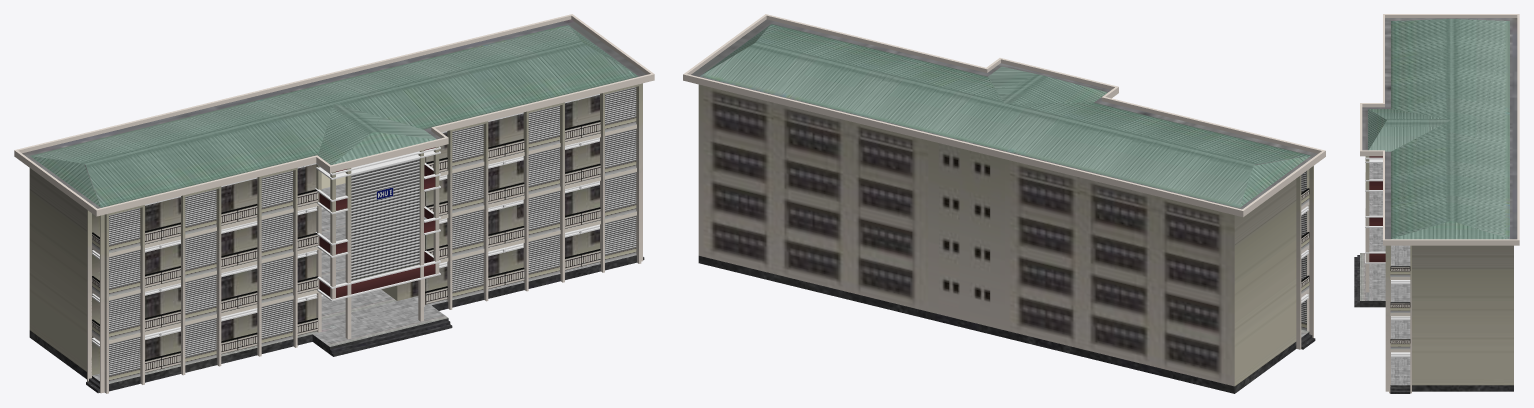
3 renders of one model, left to right at view 1: azimuth 30°, elevation 25°; view 2: azimuth 150°, elevation 25°; view 3: azimuth 270°, elevation 25°, orthographic. The views are drawn at different scales.
Parts seen in each view (by area): view 1: 5c778c7cbdd69e54386ebe7c.001; view 2: 5c778c7cbdd69e54386ebe7c.001; view 3: 5c778c7cbdd69e54386ebe7c.001.
Boxes of the visible parts, bbox=[...] form: 5c778c7cbdd69e54386ebe7c.001: bbox=[14, 14, 654, 393]; 5c778c7cbdd69e54386ebe7c.001: bbox=[683, 14, 1325, 393]; 5c778c7cbdd69e54386ebe7c.001: bbox=[1354, 14, 1519, 393].
Bounding box in the file's own units: 47 × 15.8 × 14.5.
Materials: 1 (1 with a texture image).
